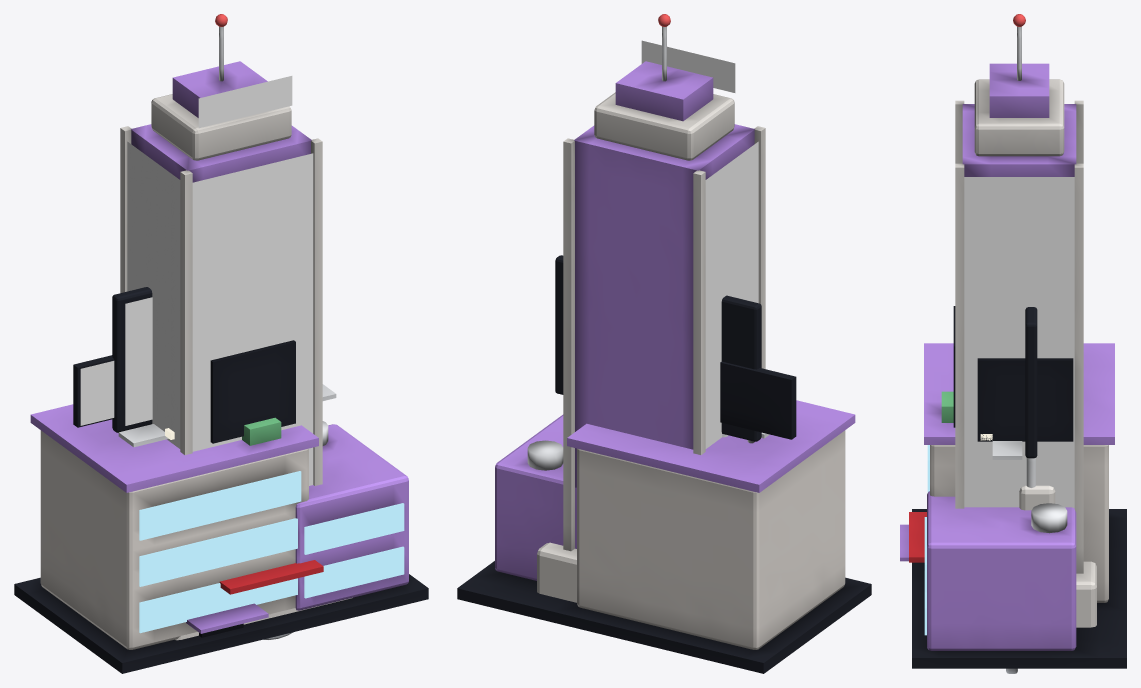
File: pinball-toys.glb
3 views of the same model, side by side, from view 1: azimuth 30°, elevation 25°; view 2: azimuth 150°, elevation 25°; view 3: azimuth 270°, elevation 25° (orthographic).
Visible parts, largest first — view 1: PinAgency, PinHQ, PinBillboard; view 2: PinAgency, PinHQ, PinBillboard; view 3: PinHQ, PinAgency, PinBillboard, PinVault.
Boxes of the visible parts, box(x1,y1,x2,y2) form: PinAgency: box(14, 355, 428, 673); PinHQ: box(120, 14, 352, 640); PinBillboard: box(112, 287, 336, 447); PinAgency: box(457, 361, 871, 673); PinHQ: box(537, 14, 765, 602); PinBillboard: box(555, 255, 769, 441); PinHQ: box(909, 14, 1096, 627); PinAgency: box(900, 343, 1126, 668); PinBillboard: box(980, 307, 1037, 487); PinVault: box(1019, 485, 1055, 510).
Size of the model in its own units: 0.118 by 0.2327 by 0.076.
